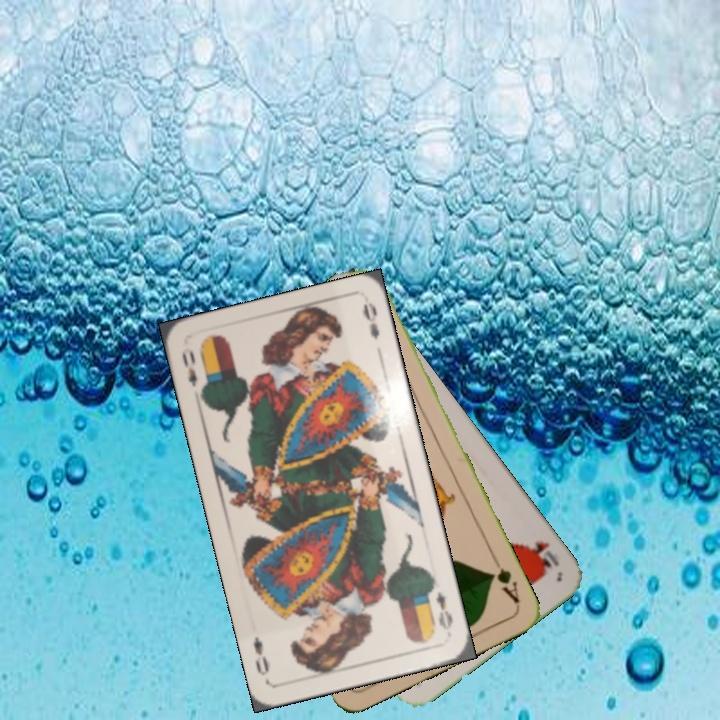EO: (432, 587, 456, 633), (177, 343, 200, 389)
GA: (485, 552, 522, 606)
HO: (522, 537, 562, 575)
